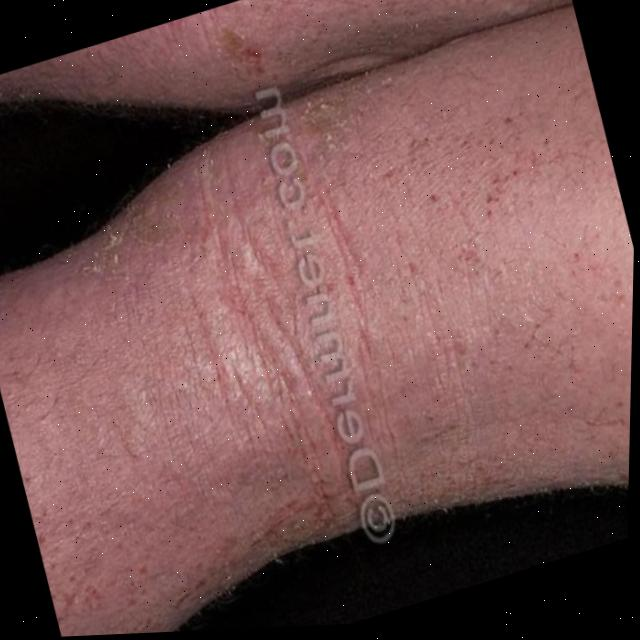Eczema: (36, 94, 637, 638), (153, 0, 445, 135)
